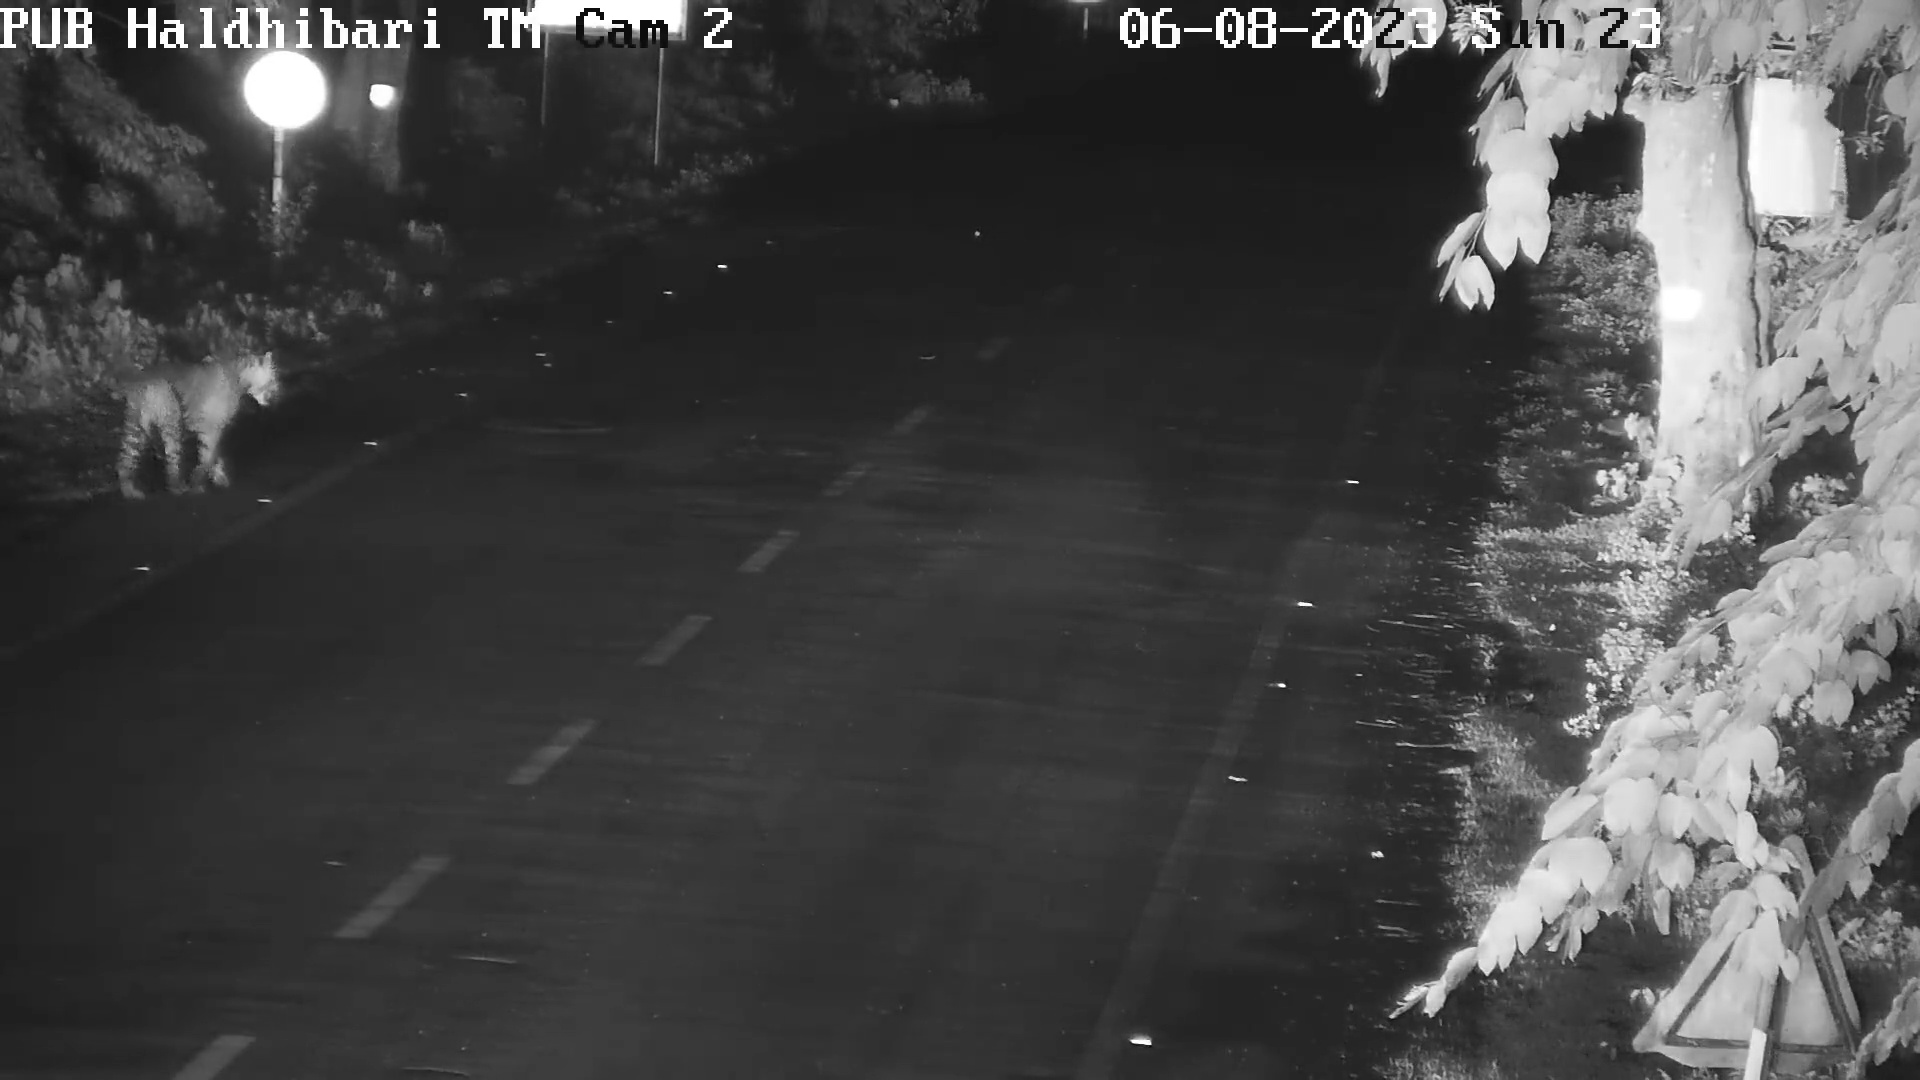tigers: (111, 351, 284, 491)
